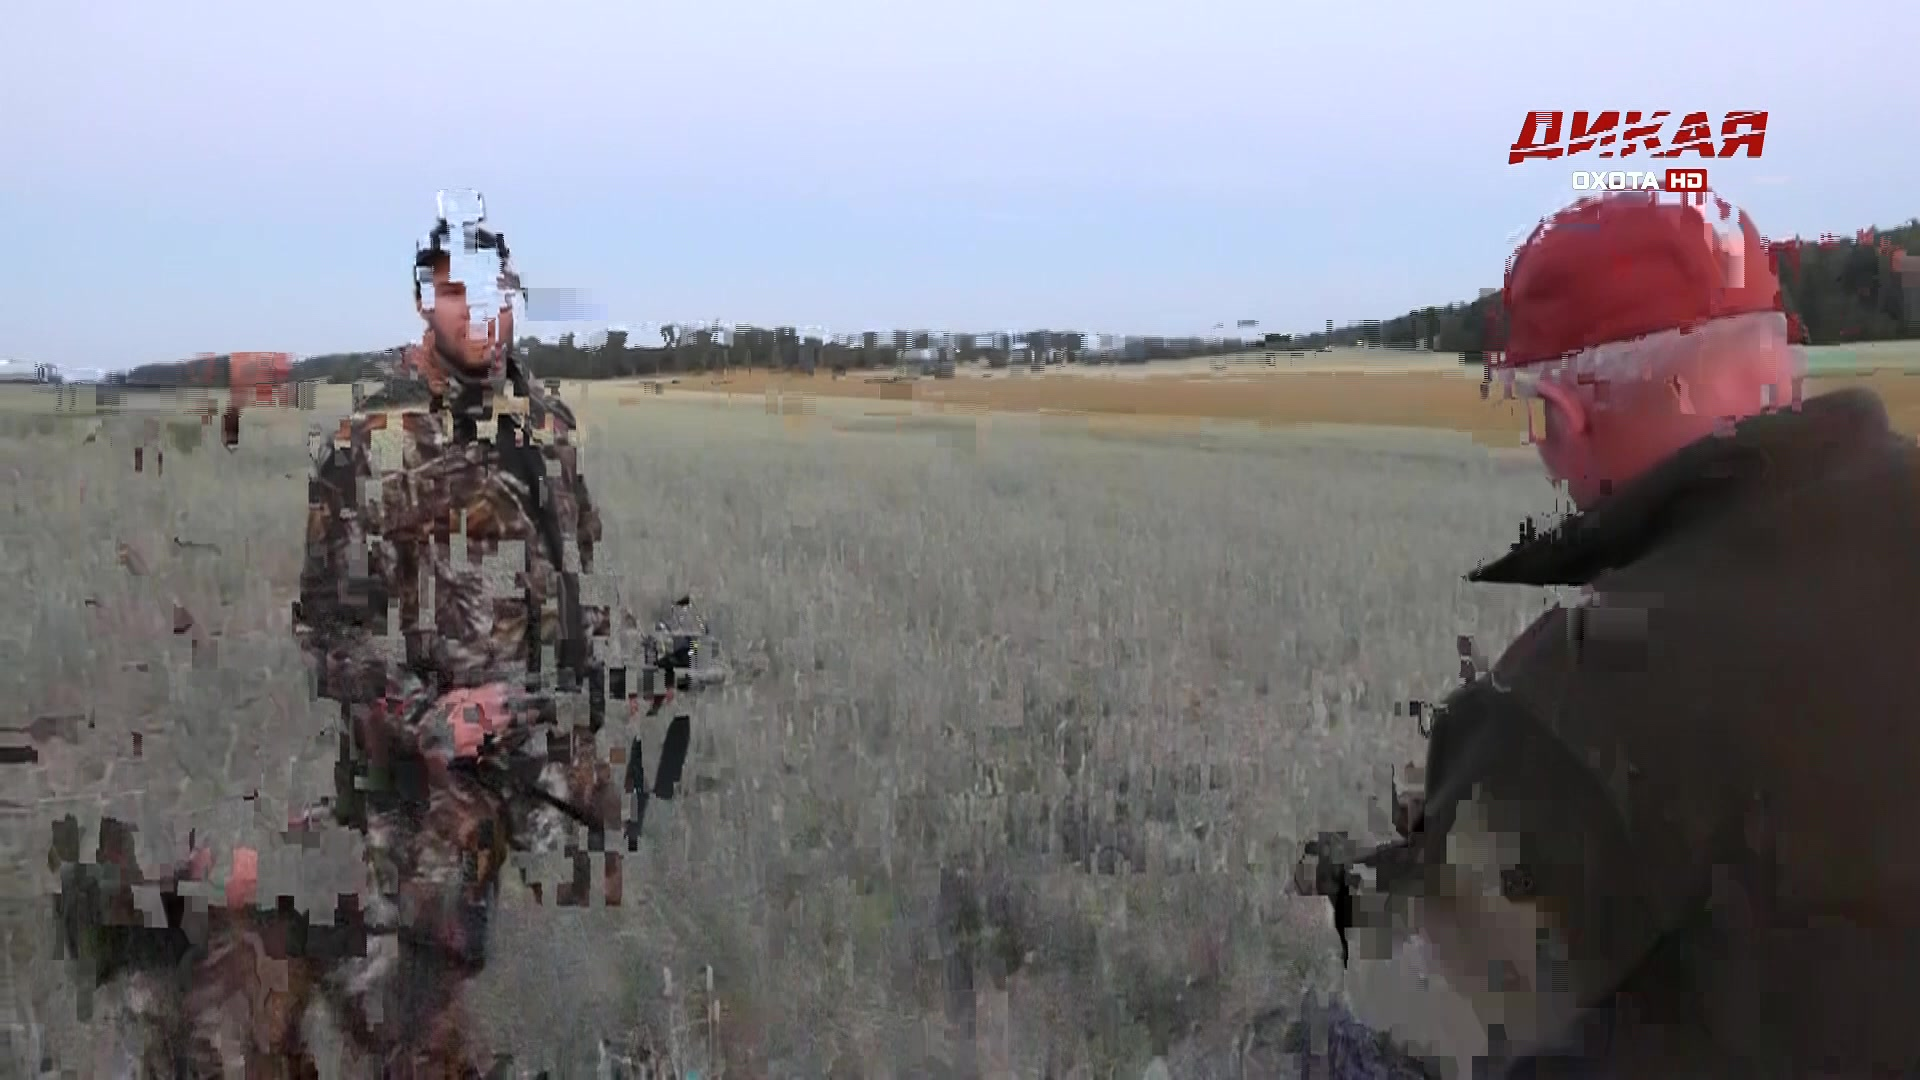Dikaya_Ohota_HD: (1506, 108, 1770, 196)
